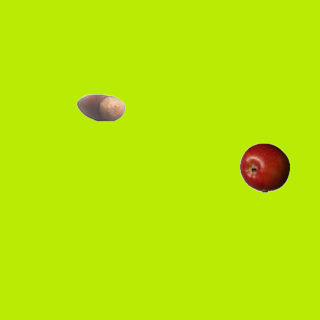Apple Braeburn: (239, 142, 289, 192)
Hazelnut: (75, 82, 125, 132)
